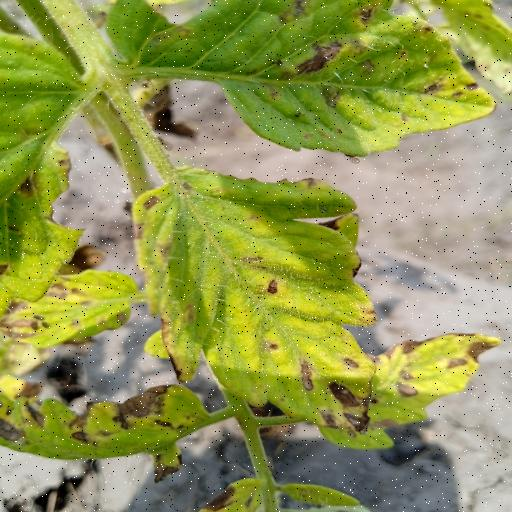Tomato_Brown_Spots: (127, 162, 391, 432), (70, 0, 504, 159), (0, 379, 217, 462), (12, 263, 139, 356)
